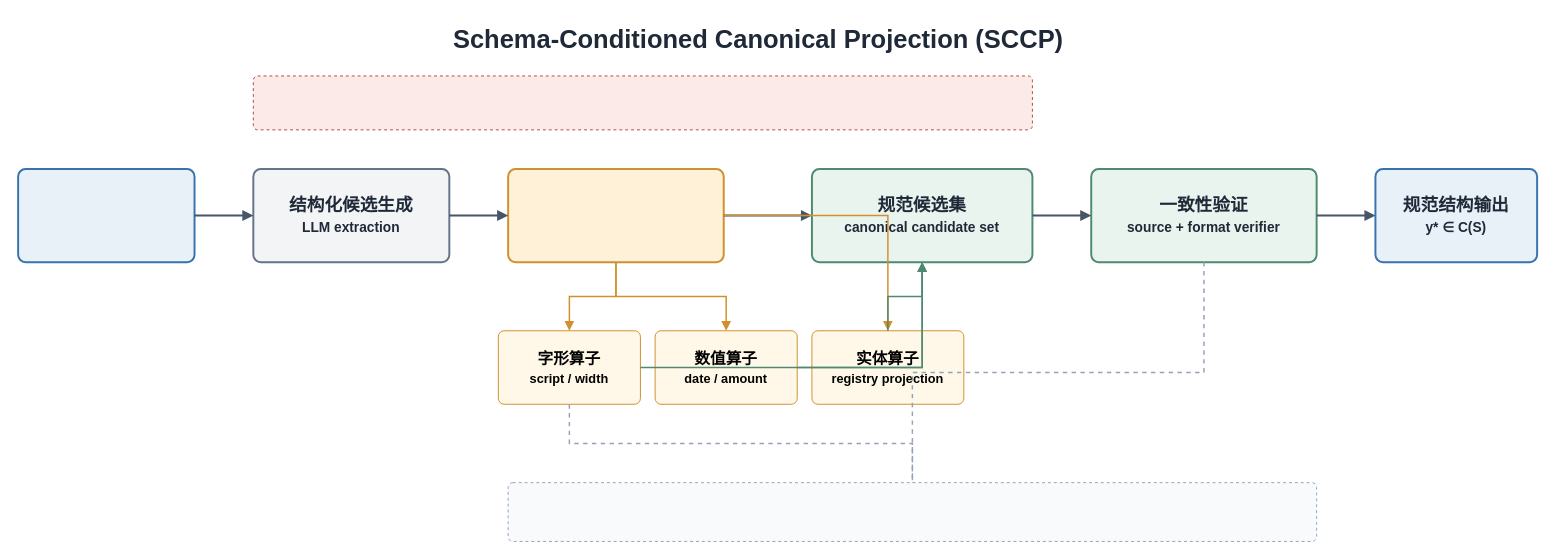
Image size: 1554x559. Some labels were removed from this diagram. The shapes that lost their labels are listed below. From the top down, each one's box as (x1, y1, x2, y2) in pixels, then its label:
(252, 75, 1032, 130): 缺少规范投影时，语义等价输出仍可能落入不同表面字符串
(17, 168, 195, 263): 语义等价输入 x 与 T(x)
(507, 168, 724, 263): 模式路由器 schema-conditioned router
(507, 482, 1317, 541): 可追踪投影决策：字段、候选、算子、置信条件
